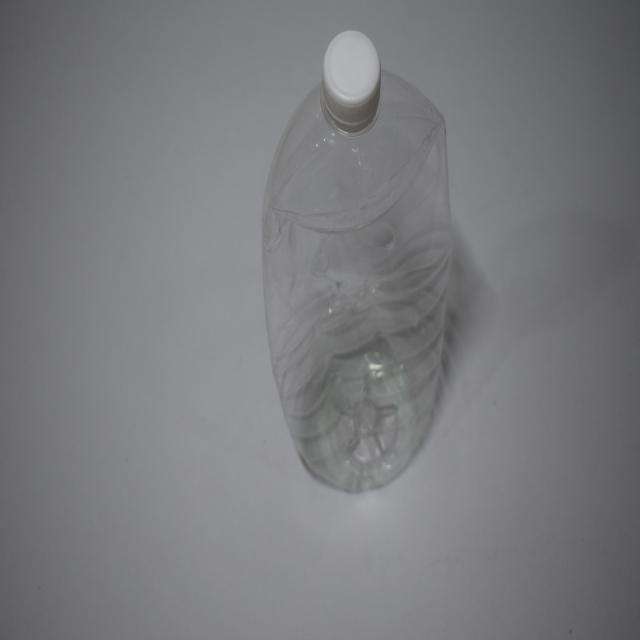bottle: (253, 22, 458, 514)
